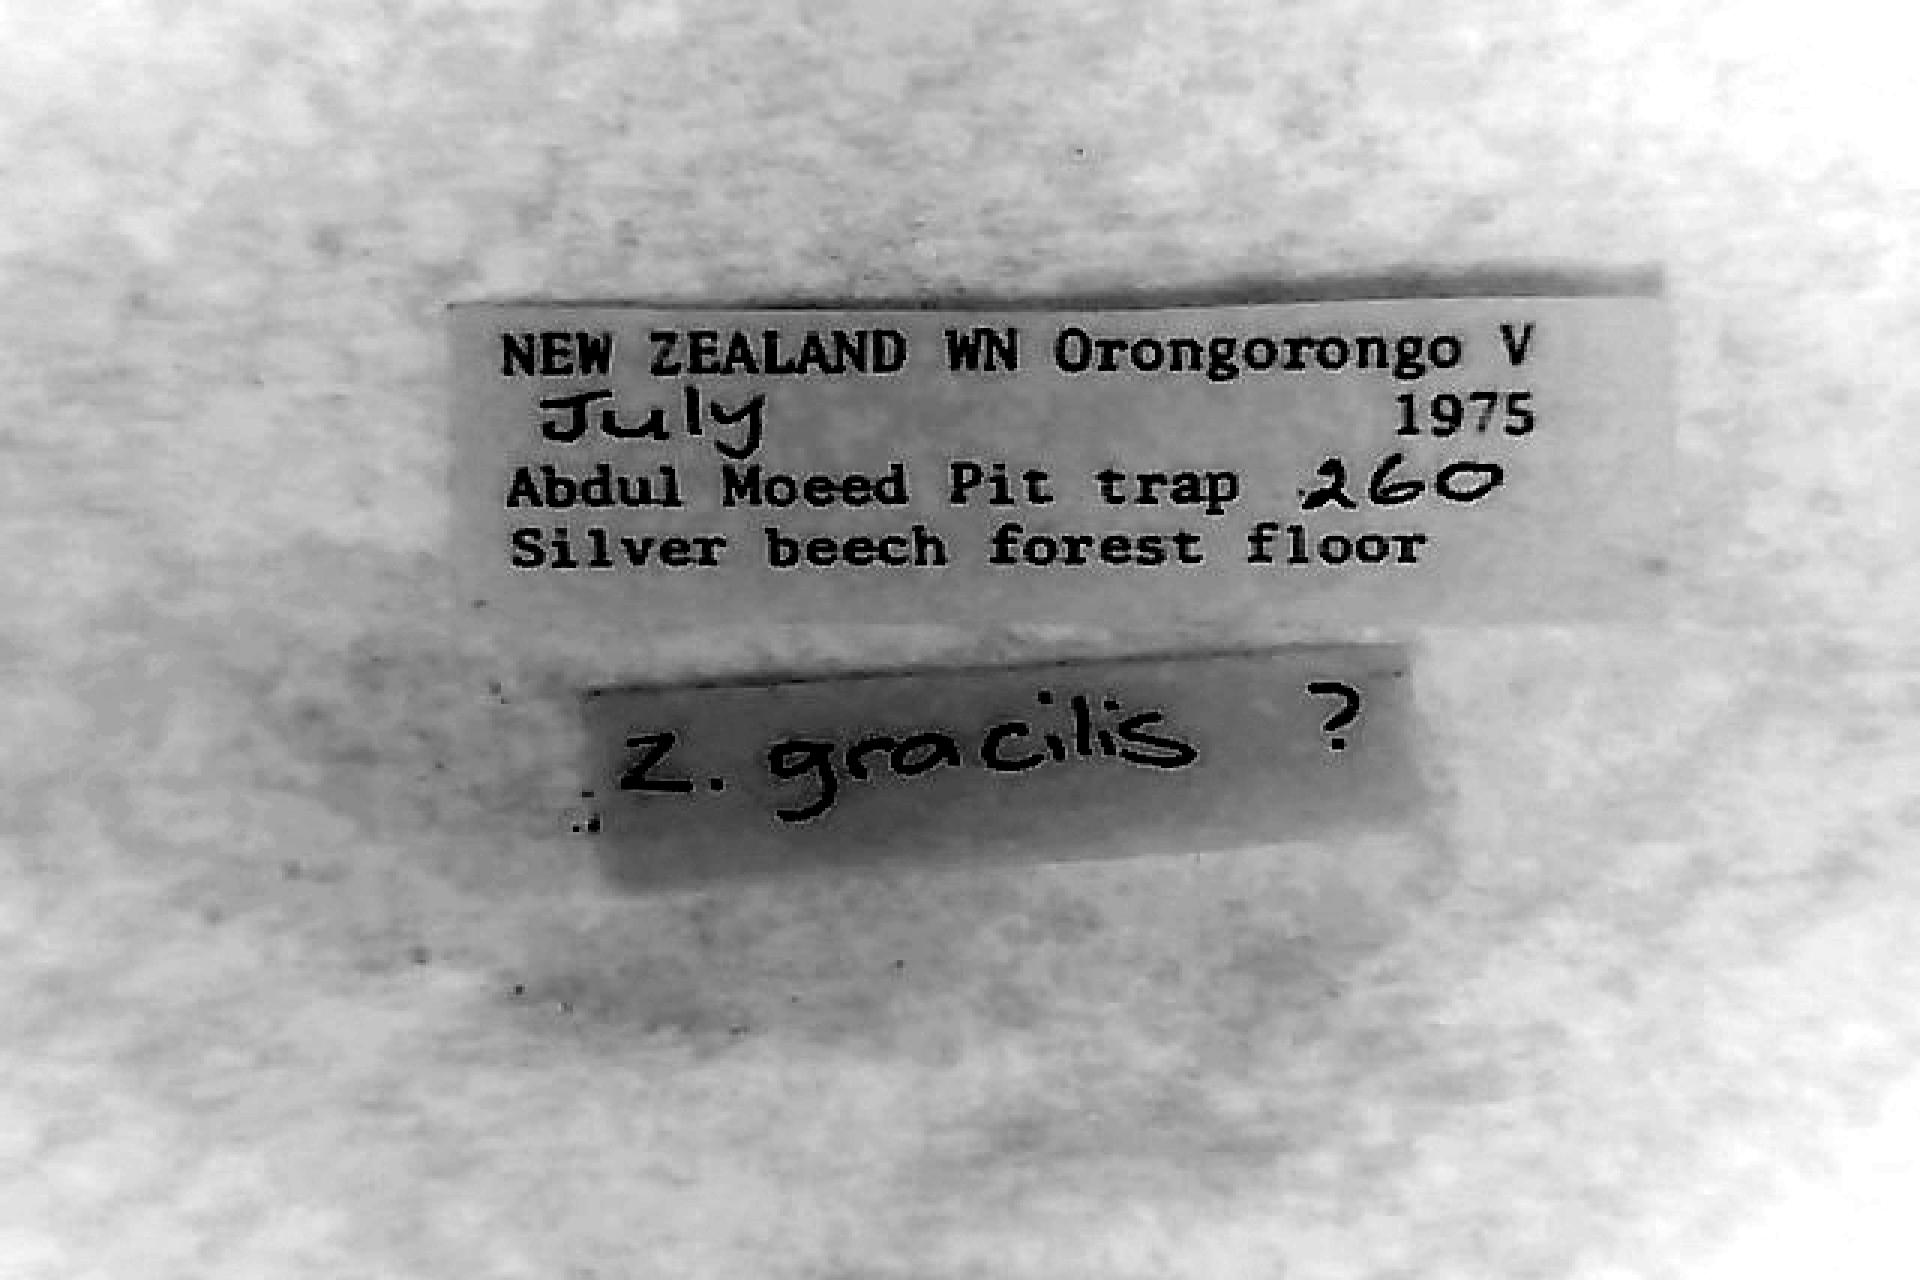hand_label: (589, 643, 1426, 893)
mixed_label: (450, 297, 1673, 621)
